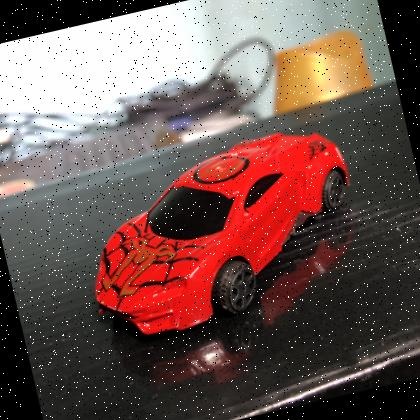Car: (60, 112, 383, 355)
